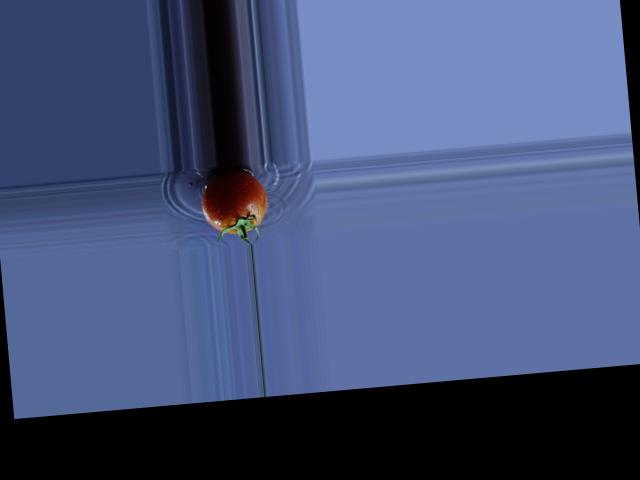tomato: (199, 167, 269, 235)
